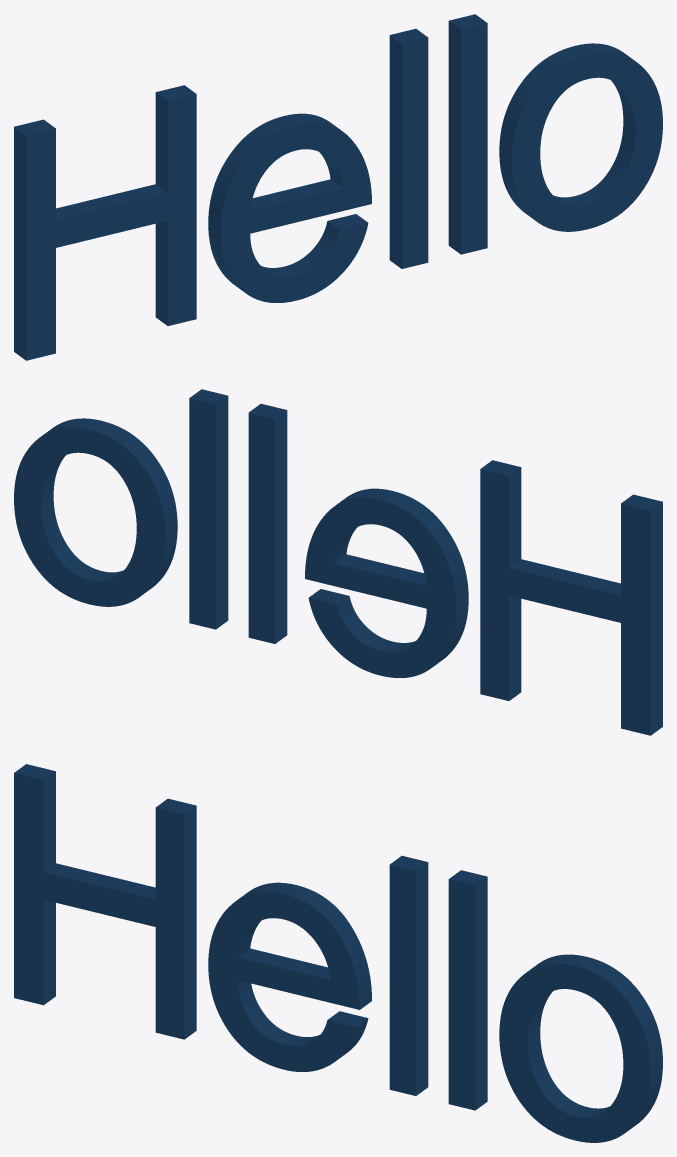
The model's file is Hello.gltf.
3 views of the same model, one above another, from view 1: azimuth 30°, elevation 25°; view 2: azimuth 150°, elevation 25°; view 3: azimuth 330°, elevation 25° (orthographic).
Bounding box in the file's own units: 3 × 1.04 × 0.1.
